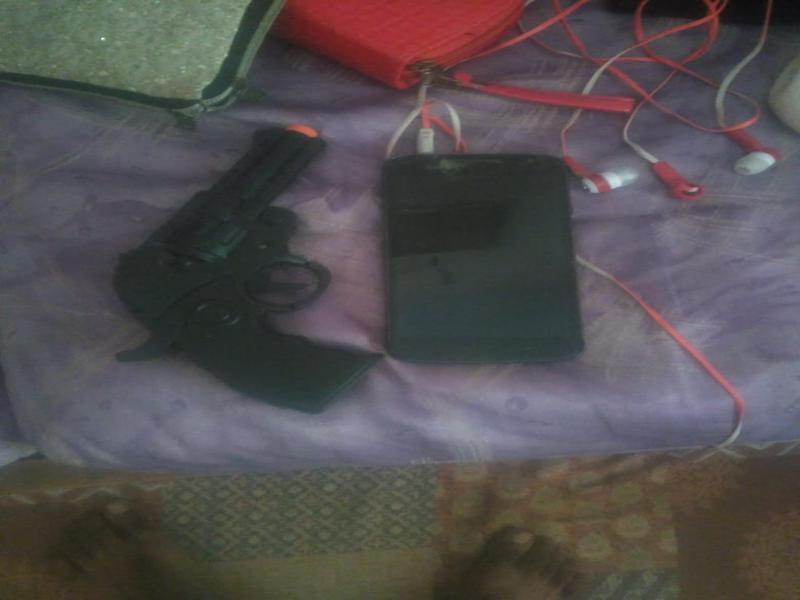gun: (107, 109, 386, 423)
